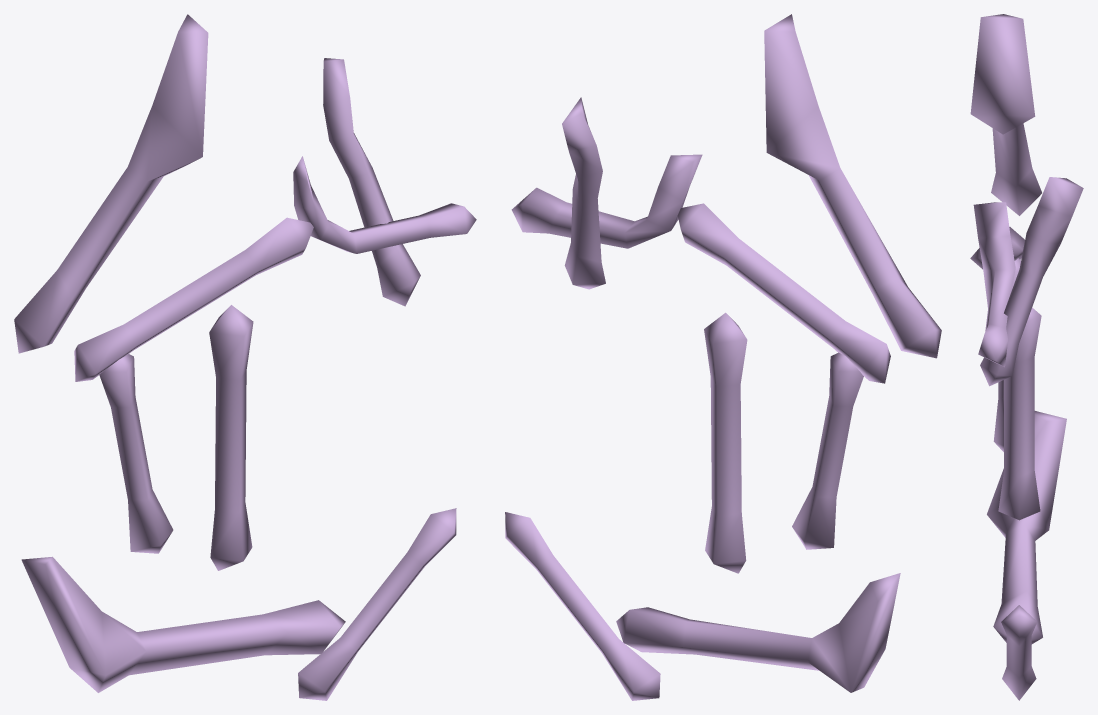
3 views of the same model, side by side, from view 1: azimuth 30°, elevation 25°; view 2: azimuth 150°, elevation 25°; view 3: azimuth 270°, elevation 25° (orthographic). The views are drawn at different scales.
Visible parts, largest first — view 1: Object48; view 2: Object48; view 3: Object48.
Boxes of the visible parts, x1=… form: Object48: x1=14, y1=14, x2=476, y2=700; Object48: x1=505, y1=14, x2=941, y2=700; Object48: x1=970, y1=14, x2=1083, y2=700.
Size of the model in its own units: 9090 by 13960 by 2303.
